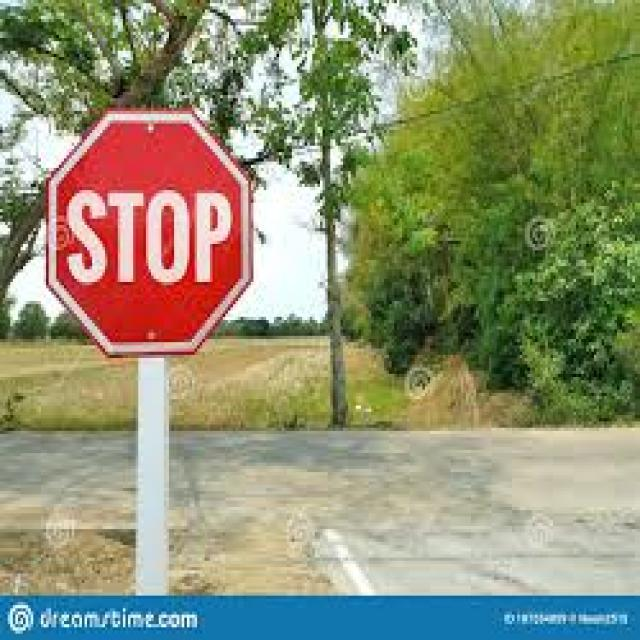stop-sign: (34, 98, 264, 341)
